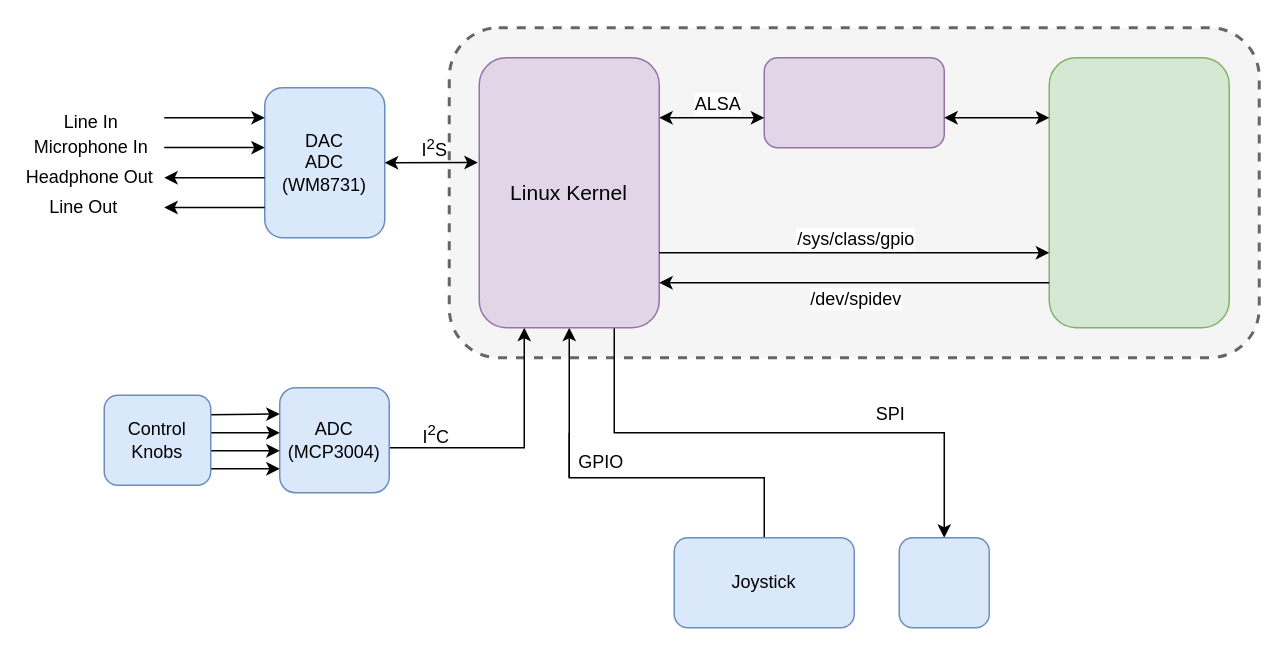
This 1287x654 diagram has some shape labels left out. The centre of each missing label's shape, as x and y in pixels:
"Display" belongs at pixel 943 582.
"JACK" belongs at pixel 853 102.
"signl Software" belongs at pixel 1138 192.
